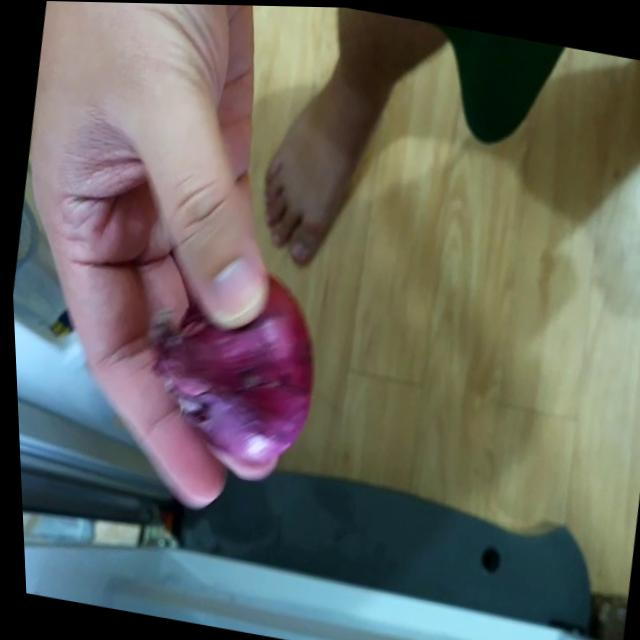onion: (127, 250, 327, 488)
